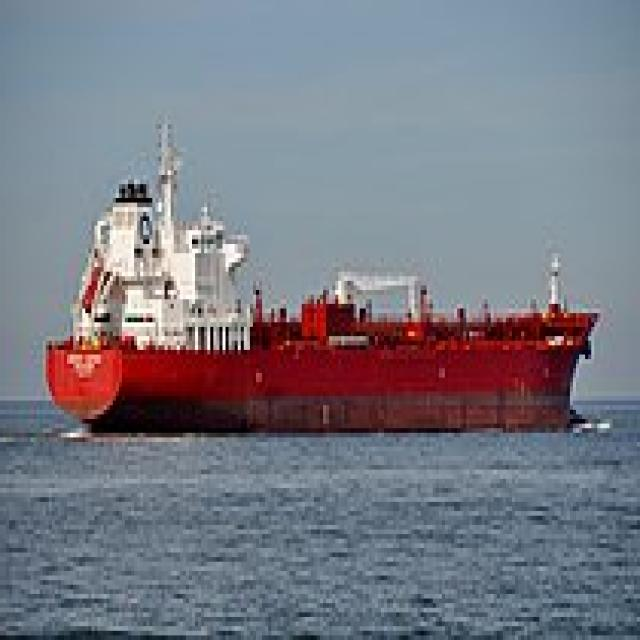Tanker: (43, 110, 606, 438)
